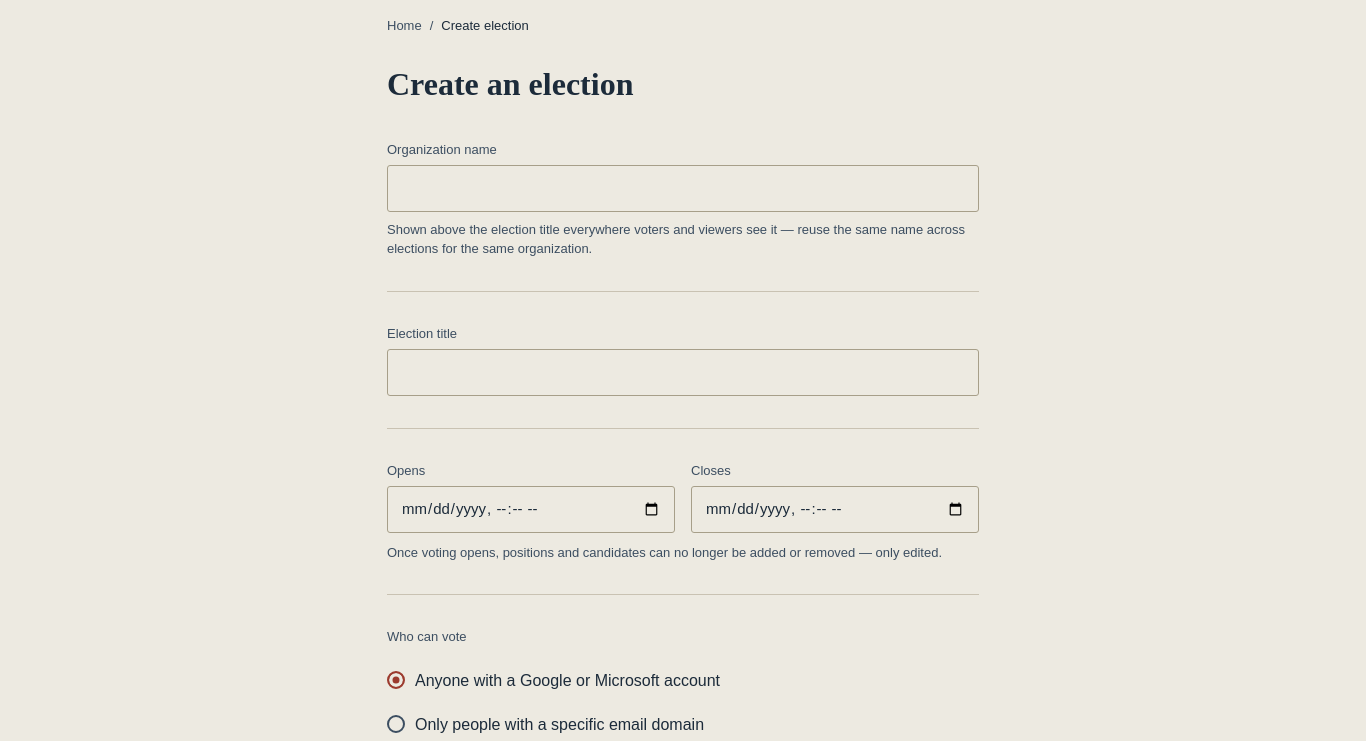
CreateElectionForm validation › blocks submit when a position has no candidates
Type "Riverside Co-op" into the field labelled "Organization name" at (683, 188), box top-left (387, 165), bottom-right (979, 212)
Type "  Board election  " into the field labelled "Election title" at (683, 372), box top-left (387, 349), bottom-right (979, 396)
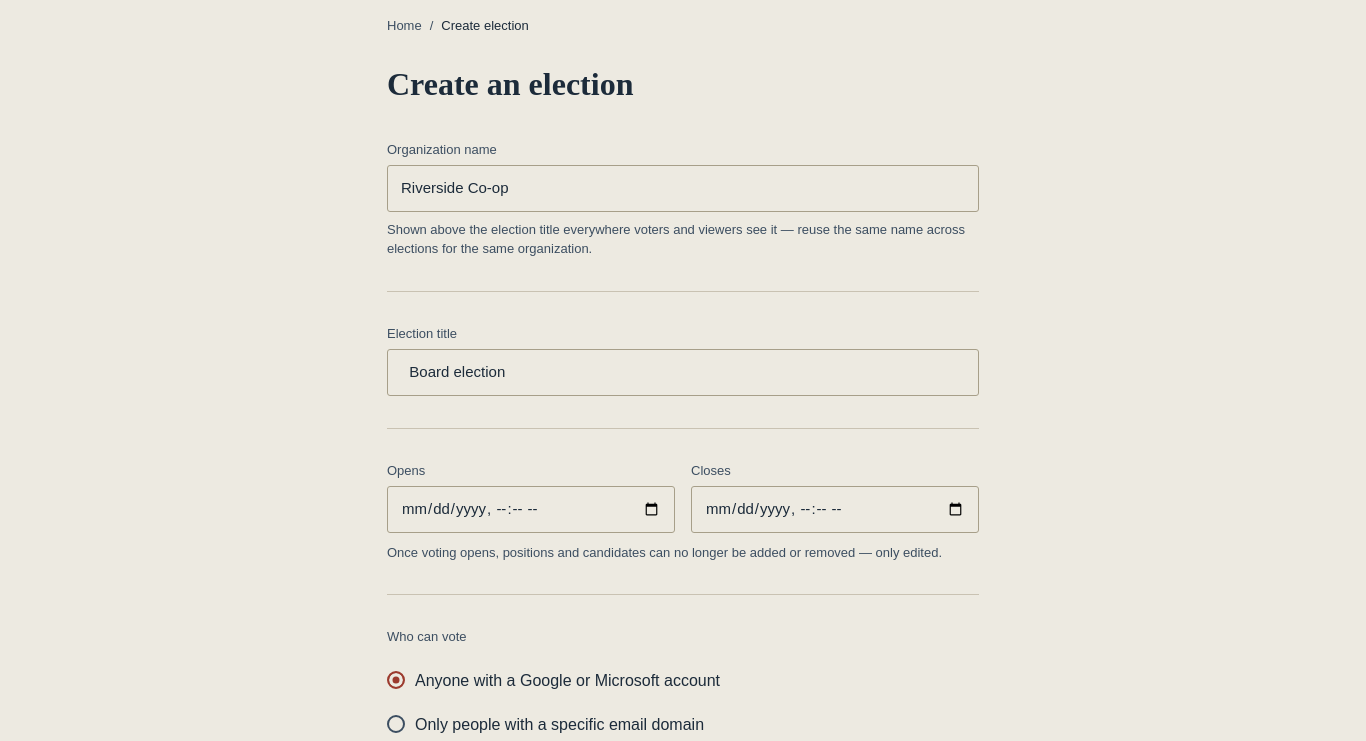
Type "2099-01-01T09:00" into the field labelled "Opens" at (531, 509), box top-left (387, 486), bottom-right (675, 532)
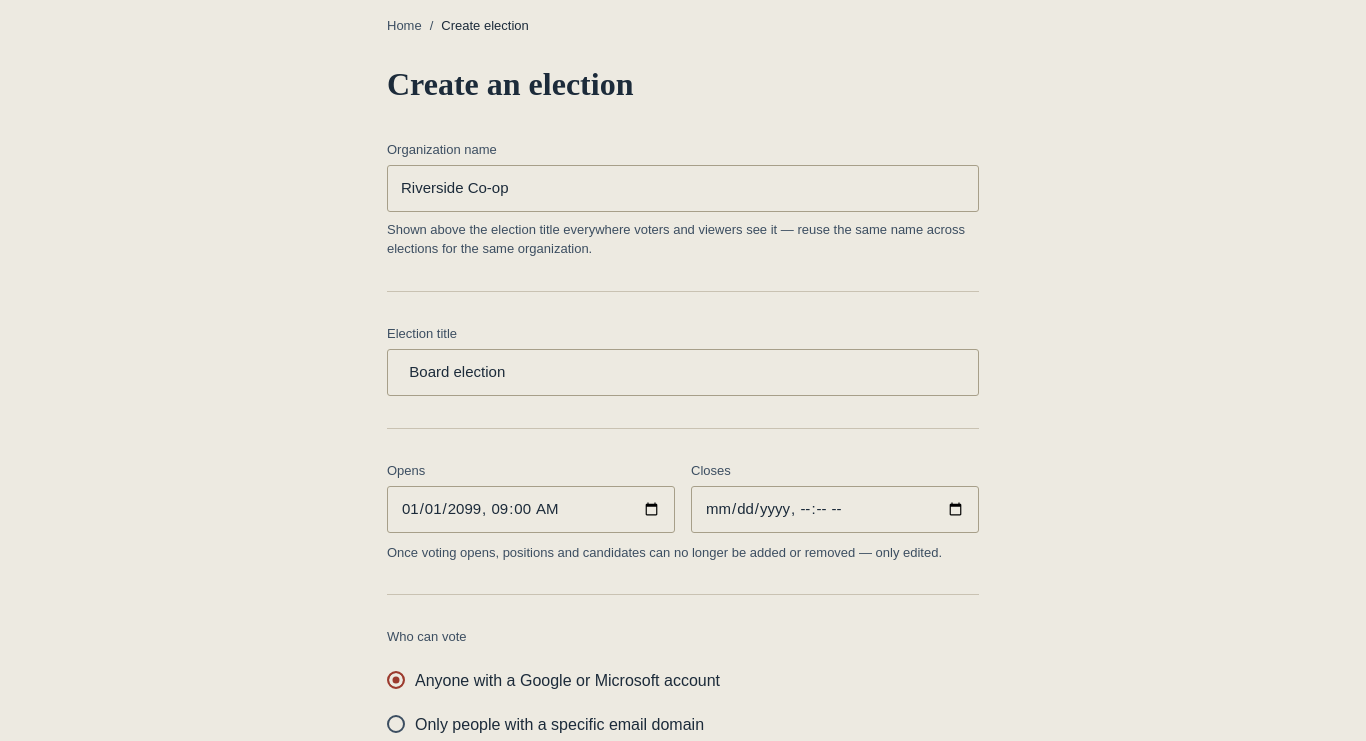
Type "2099-01-15T17:00" into the field labelled "Closes" at (835, 509), box top-left (691, 486), bottom-right (979, 532)
(page scrolled)
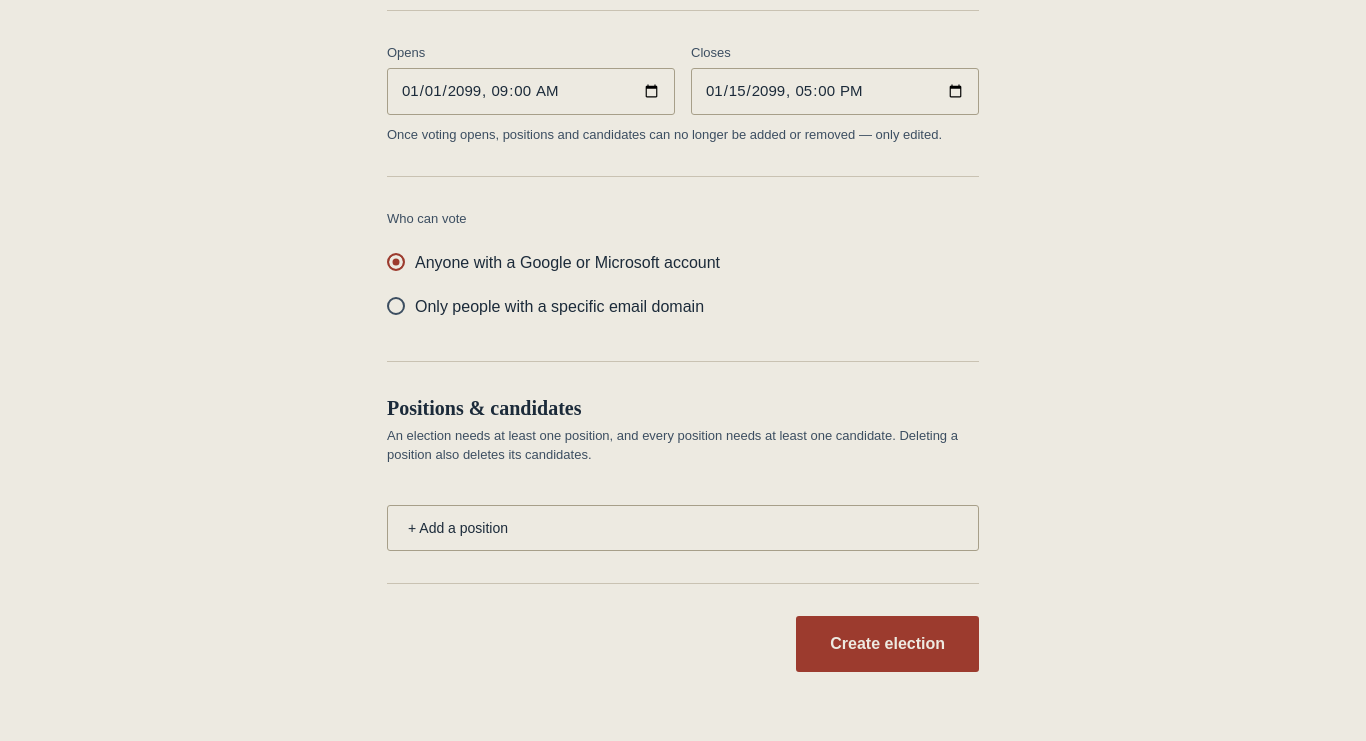
Click the button "+ Add a position" at (458, 528), box top-left (387, 504), bottom-right (979, 550)
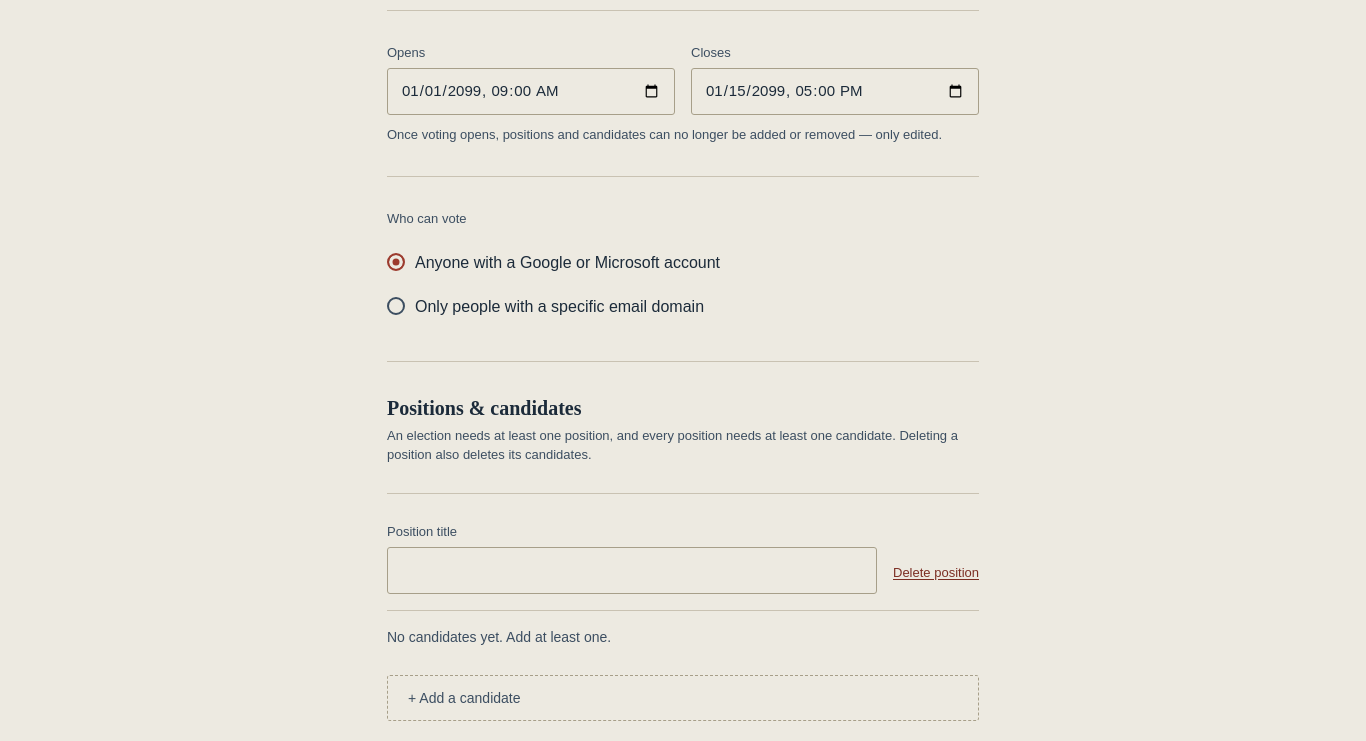
Type "Chair" into the 3rd field at (632, 570), box top-left (387, 547), bottom-right (877, 594)
(page scrolled)
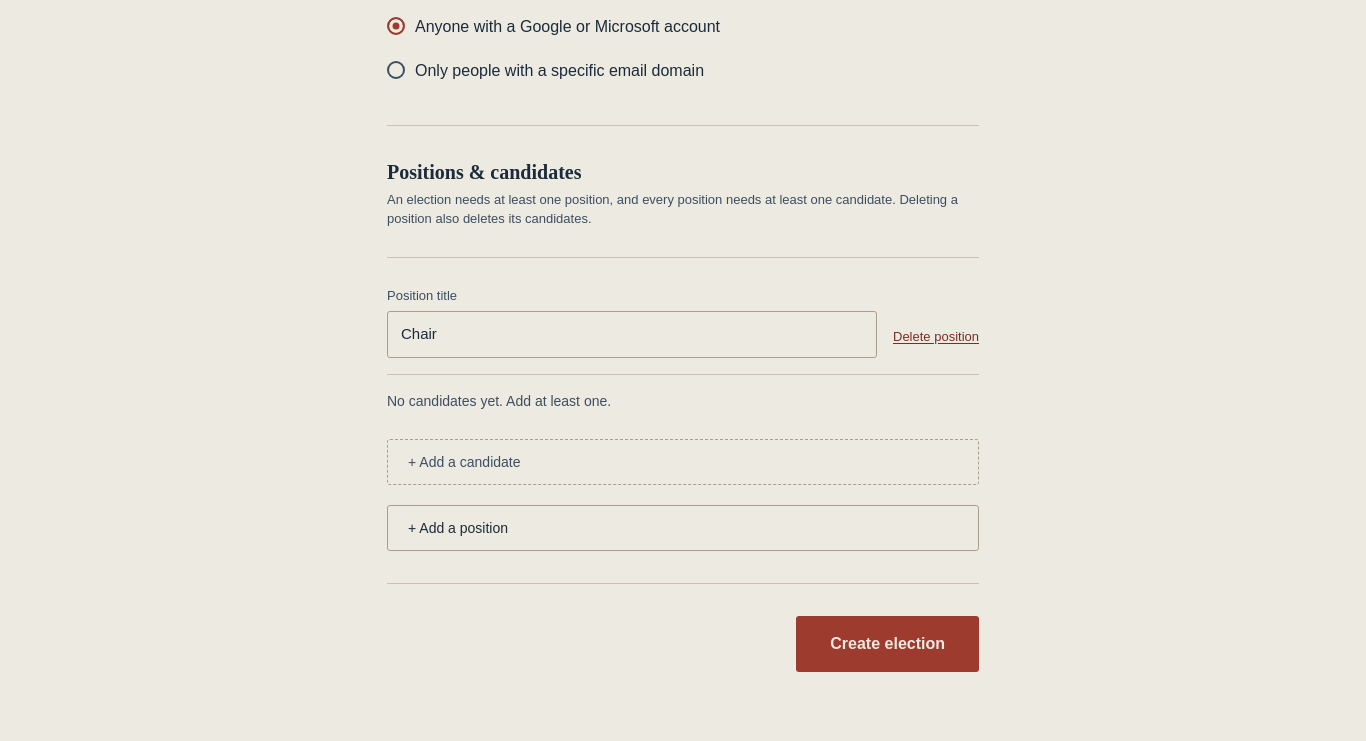
Click the button "Create election" at (888, 644), box top-left (796, 616), bottom-right (979, 672)
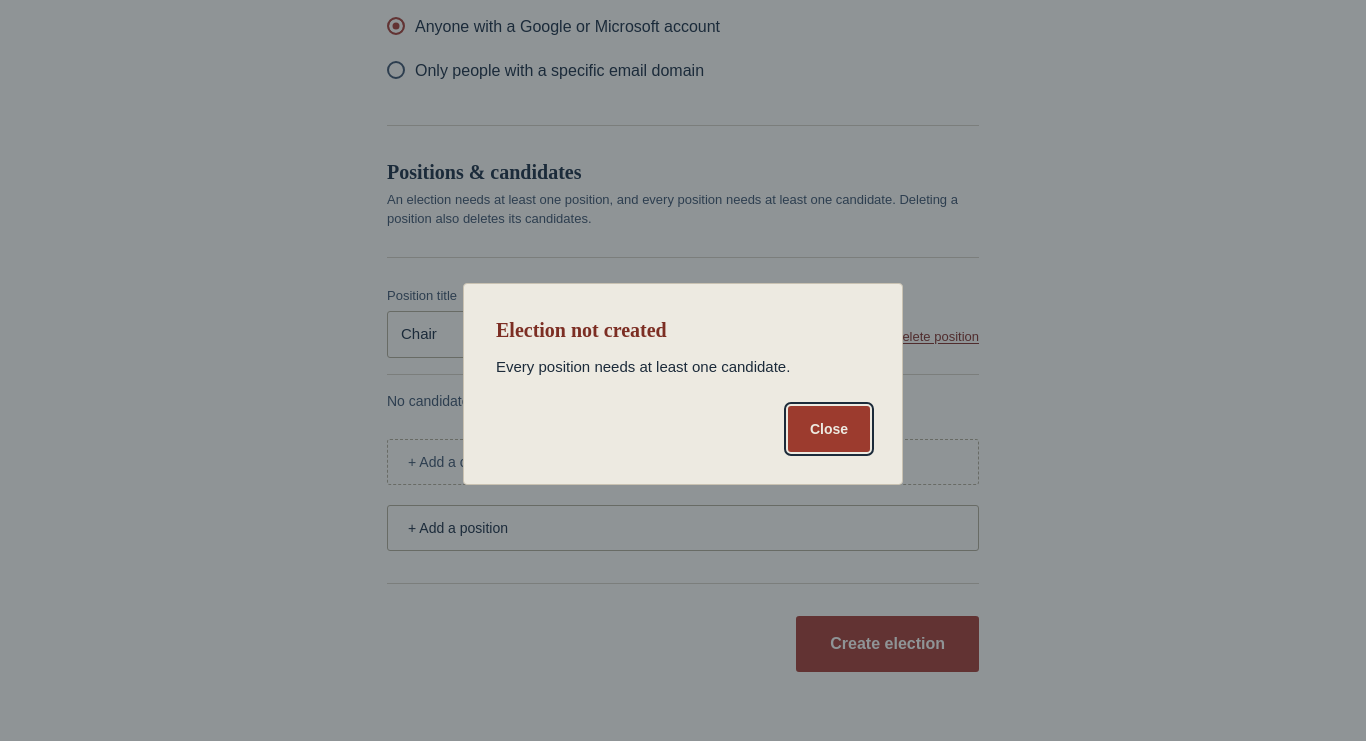
Now the dialog shows "Every position needs at least one candidate.", box top-left (496, 358), bottom-right (790, 375)
